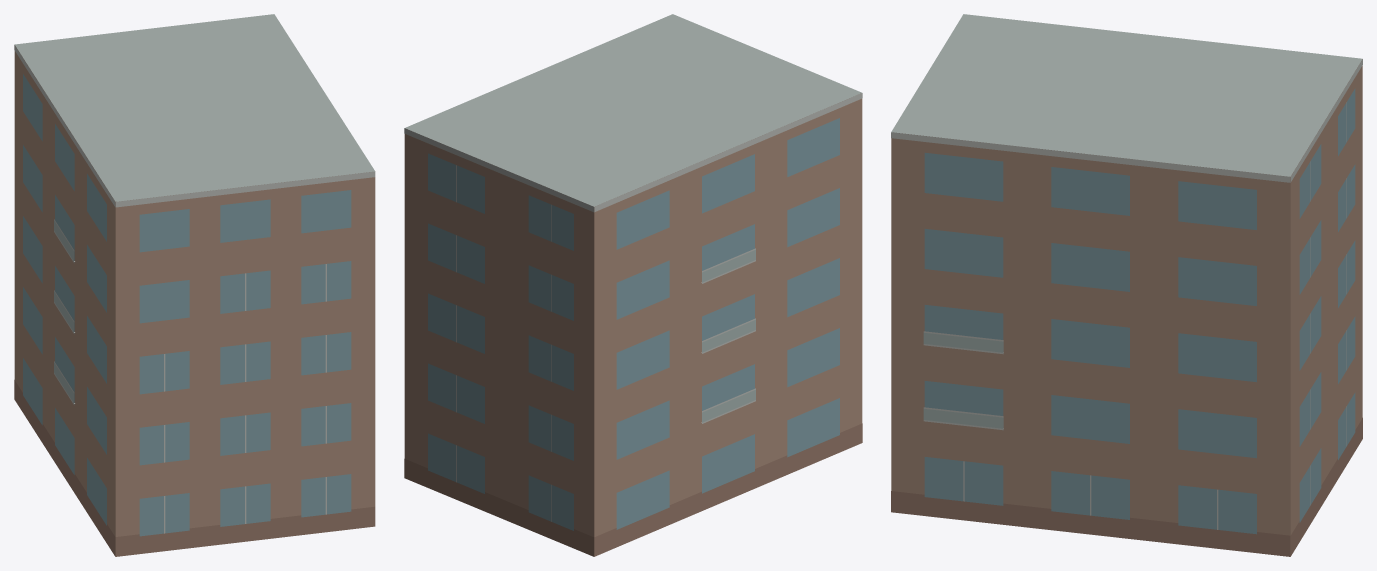
Rendered from survey-upis-32752635.glb.
The picture shows the model from 3 angles, left to right: view 1: azimuth 30°, elevation 25°; view 2: azimuth 150°, elevation 25°; view 3: azimuth 270°, elevation 25°; orthographic projection. The views are drawn at different scales.
Parts seen in each view (by area): view 1: survey-upis-32752635.tmp; view 2: survey-upis-32752635.tmp; view 3: survey-upis-32752635.tmp.
Part boxes in pixels (left/top/right/bottom): survey-upis-32752635.tmp: left=14, top=14, right=375, bottom=556; survey-upis-32752635.tmp: left=404, top=14, right=862, bottom=556; survey-upis-32752635.tmp: left=891, top=14, right=1362, bottom=556.
Bounding box in the file's own units: 14.02 × 15.25 × 17.16.
